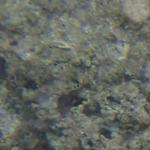dead: (1, 3, 146, 146)
